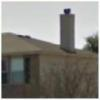chimneys: (59, 8, 74, 54)
